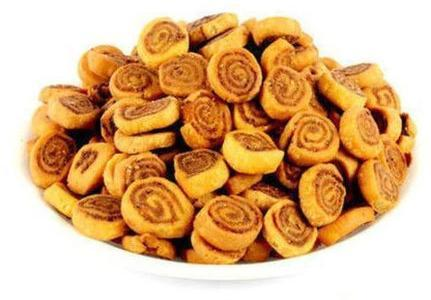bhakarwadi: (23, 14, 416, 263)
